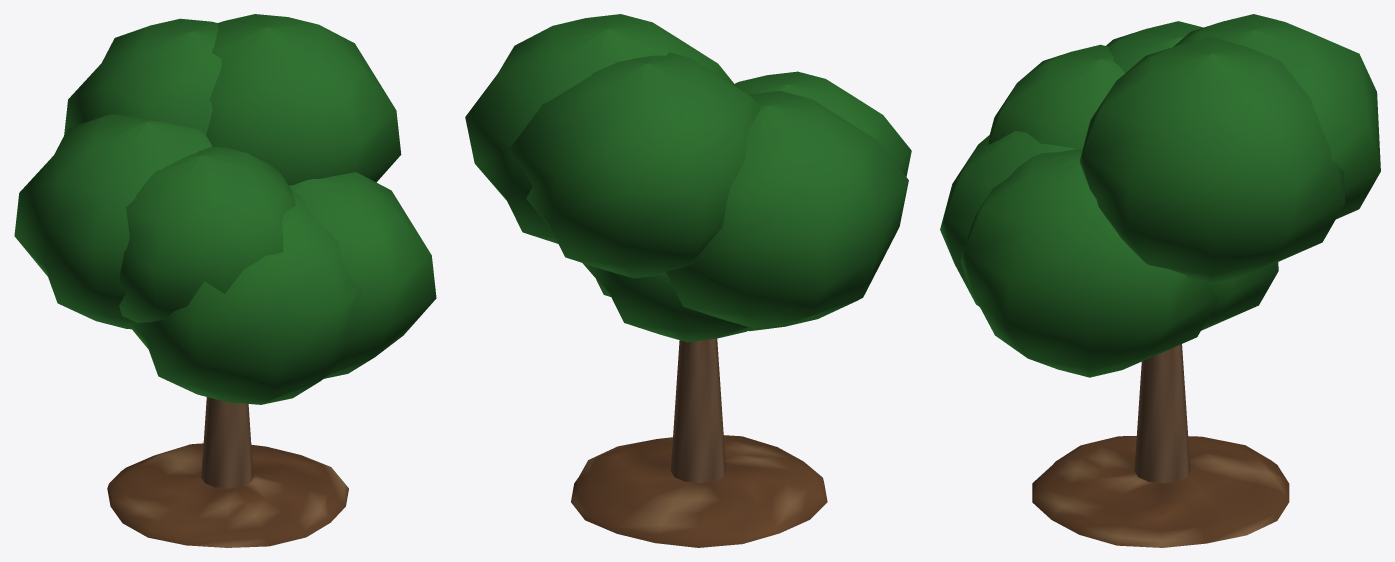
File: plant-apple-4.gltf
3 renders of one model, left to right at view 1: azimuth 30°, elevation 25°; view 2: azimuth 150°, elevation 25°; view 3: azimuth 270°, elevation 25°, orthographic. The views are drawn at different scales.
Bounding box in the file's own units: 2.07 × 2.55 × 2.16.
